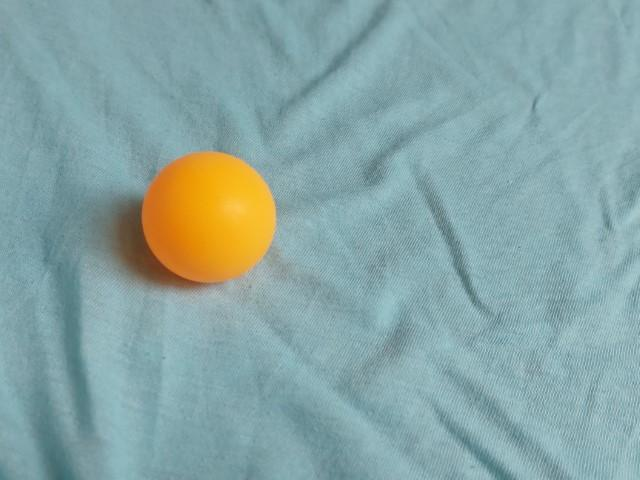oball: (132, 141, 282, 289)
